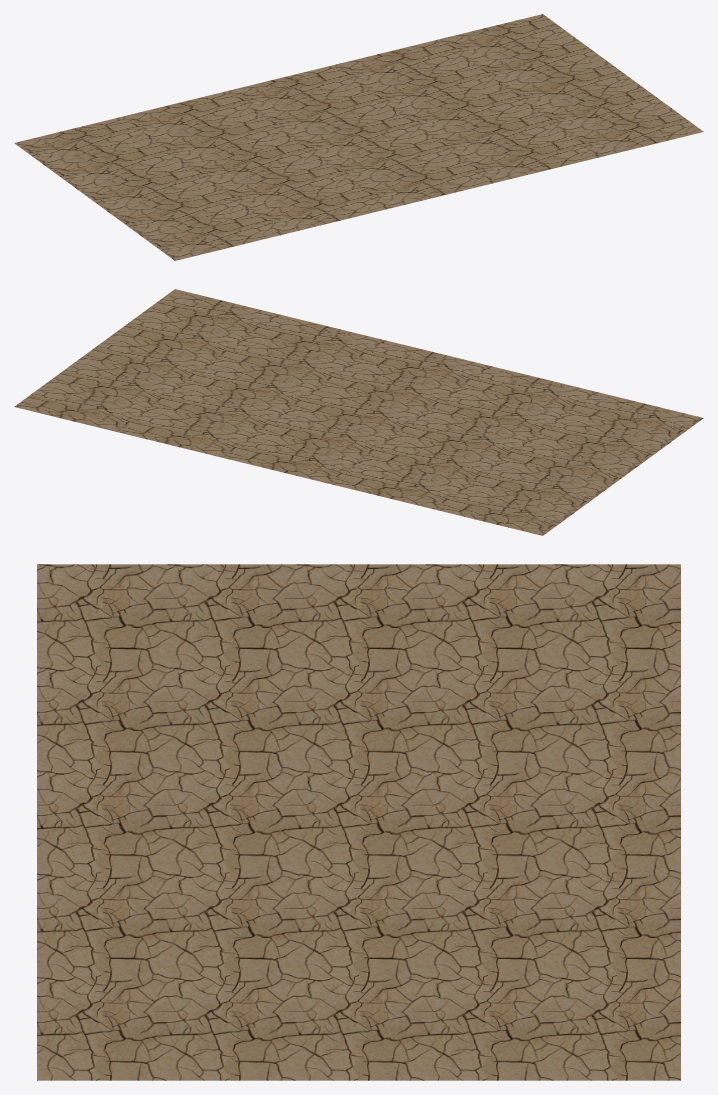
File: Ground.FBX
3 renders of one model, top to bottom at view 1: azimuth 30°, elevation 25°; view 2: azimuth 150°, elevation 25°; view 3: azimuth 270°, elevation 25°, orthographic. The views are drawn at different scales.
Parts seen in each view (by area): view 1: Ground; view 2: Ground; view 3: Ground.
Part boxes in pixels (x1,y1,x2,y2): Ground: (14,14,703,260); Ground: (14,289,703,535); Ground: (37,564,680,1080).
Bounding box in the file's own units: 337 × 1.09e-14 × 178.
Materials: 1 (1 with a texture image).
